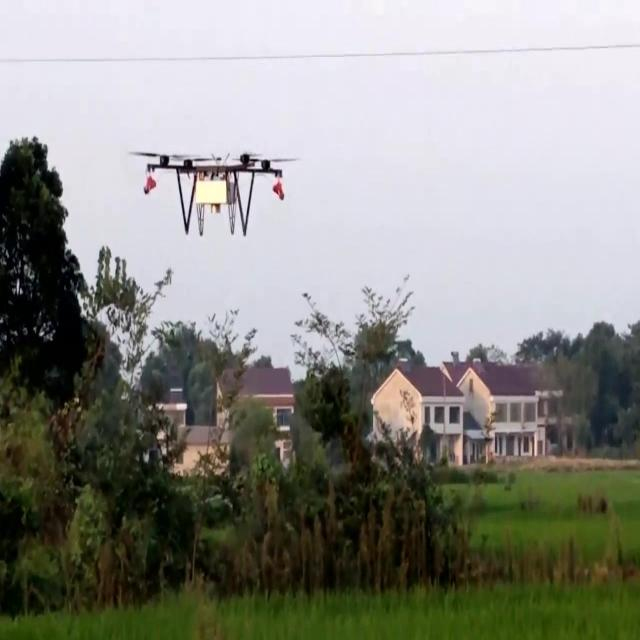UAV: (126, 151, 300, 237)
